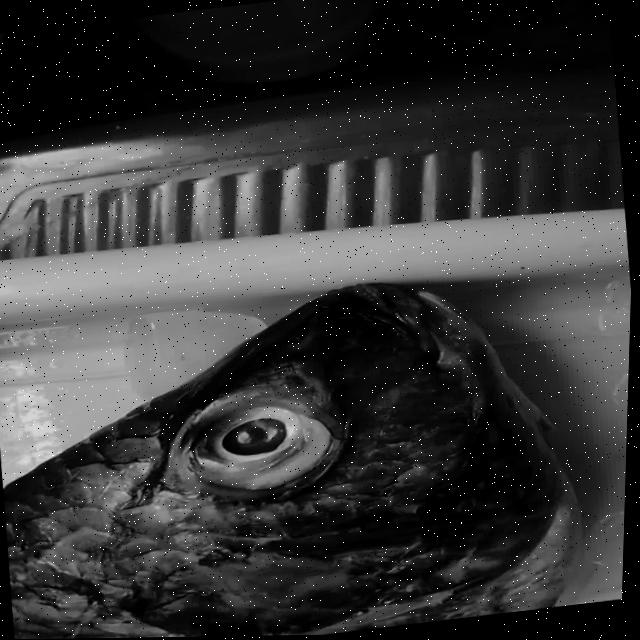Fresh: (155, 375, 373, 507)
